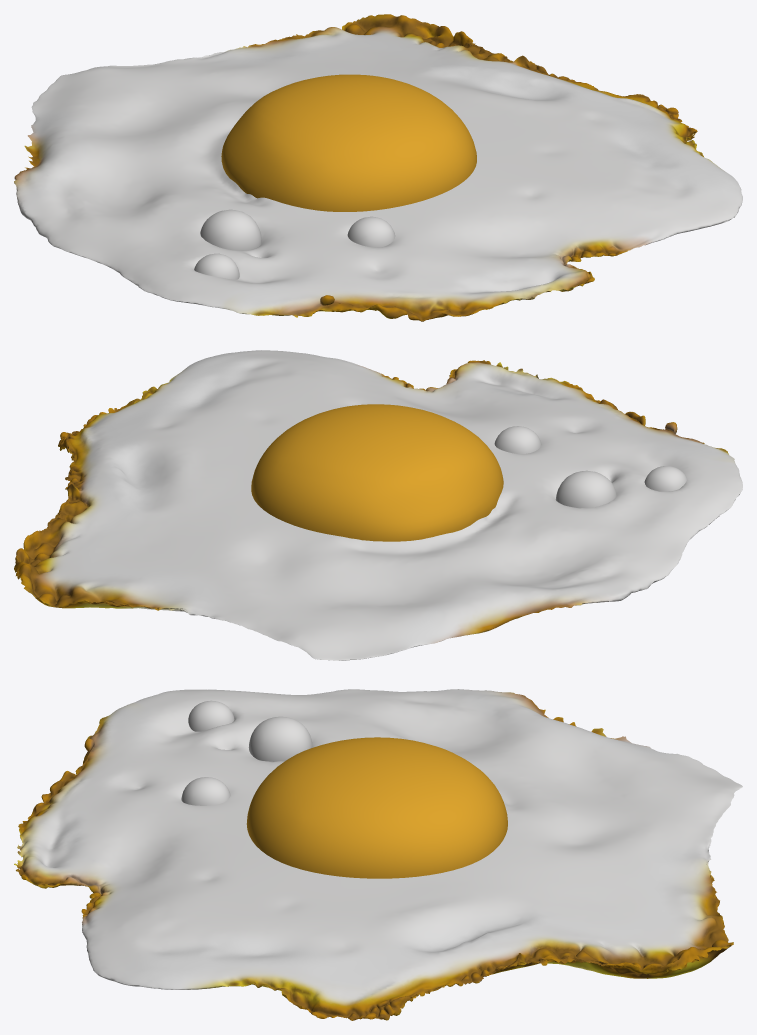
3 views of the same model, one above another, from view 1: azimuth 30°, elevation 25°; view 2: azimuth 150°, elevation 25°; view 3: azimuth 270°, elevation 25° (orthographic). The views are drawn at different scales.
Parts seen in each view (by area): view 1: Geode; view 2: Geode; view 3: Geode.
Boxes of the visible parts, x1=… form: Geode: x1=14, y1=14, x2=742, y2=321; Geode: x1=14, y1=350, x2=742, y2=660; Geode: x1=14, y1=689, x2=742, y2=1020.
Bounding box in the file's own units: 141 × 24.48 × 138.
